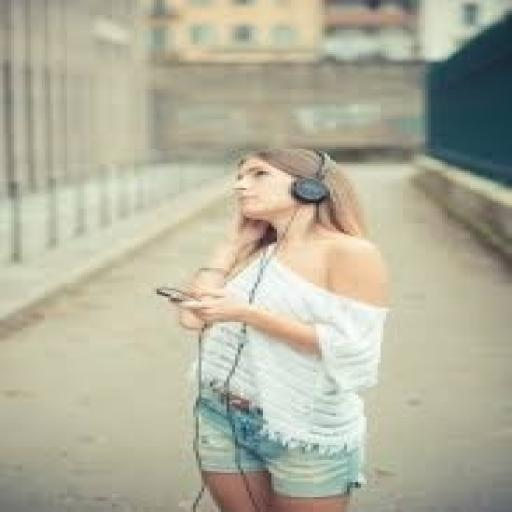listening_to_music: (165, 145, 397, 510)
